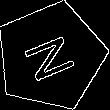N_NE: (19, 28, 83, 85)
